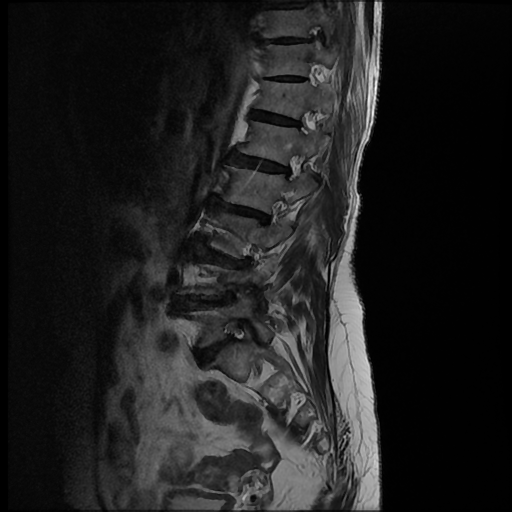RFS0: (274, 148, 309, 187)
